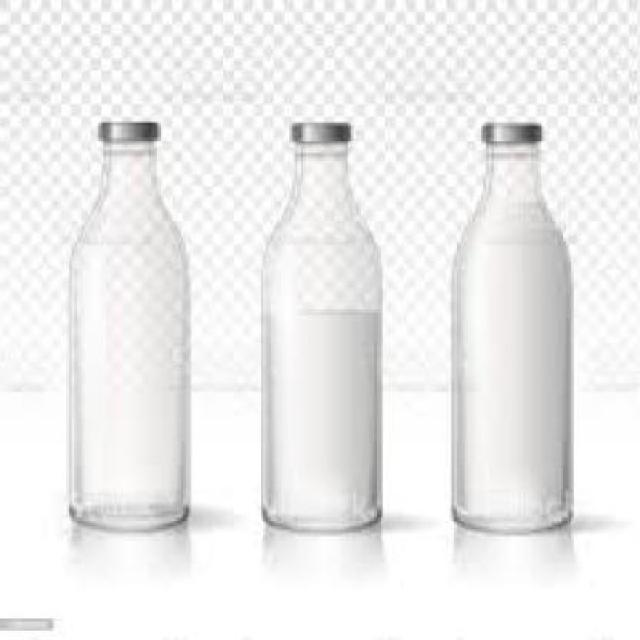kaca: (63, 138, 186, 528), (446, 138, 568, 531), (257, 142, 380, 530)
